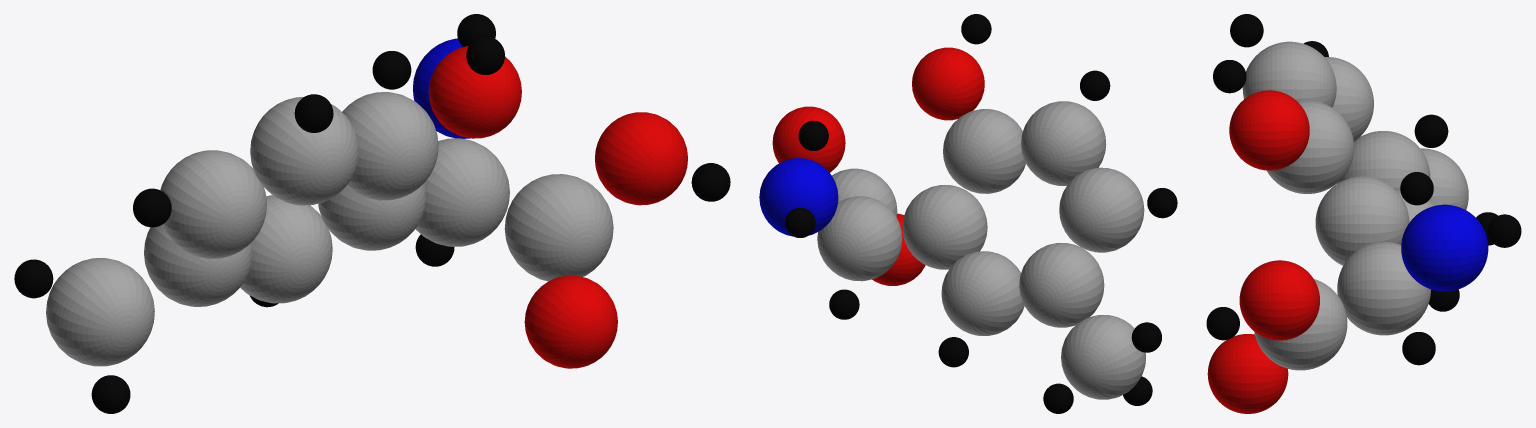
File: Adrenaline (Epinephrine).glb
3 views of the same model, side by side, from view 1: azimuth 30°, elevation 25°; view 2: azimuth 150°, elevation 25°; view 3: azimuth 270°, elevation 25° (orthographic). The views are drawn at different scales.
Parts seen in each view (by area): view 1: world; view 2: world; view 3: world.
Boxes of the visible parts, bbox=[...] form: world: bbox=[14, 14, 730, 413]; world: bbox=[759, 14, 1177, 413]; world: bbox=[1206, 14, 1521, 413].
Bounding box in the file's own units: 8.77 × 5.18 × 4.69.
